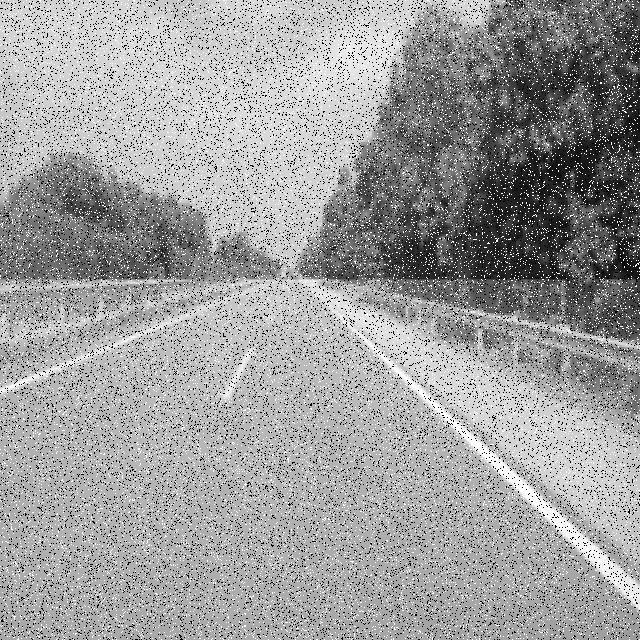clear-road: (0, 281, 640, 640)
